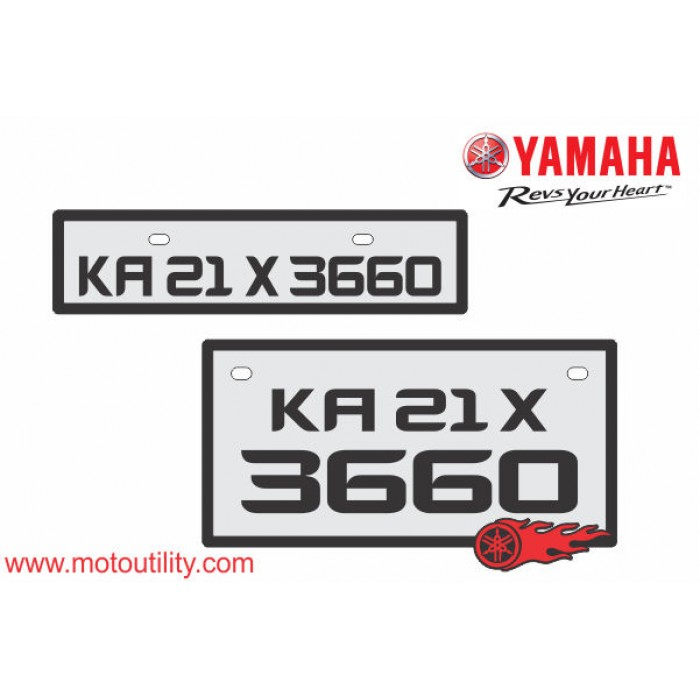number_plate: (199, 338, 626, 552), (50, 206, 468, 317)
